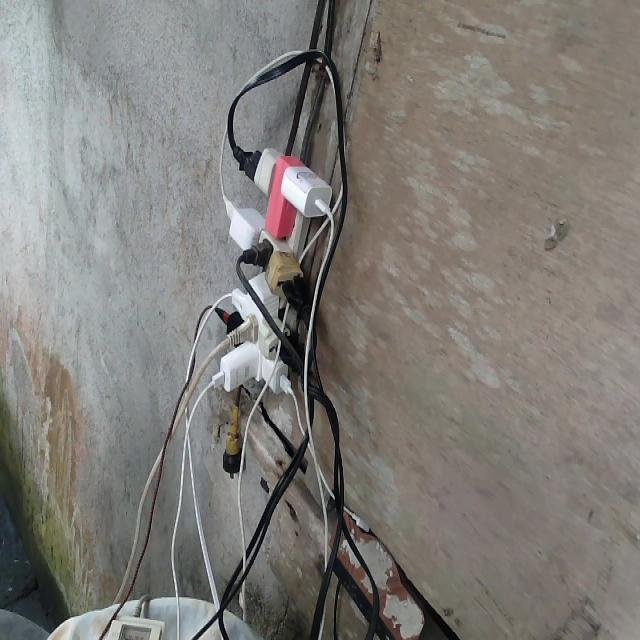-: (212, 143, 332, 393)
